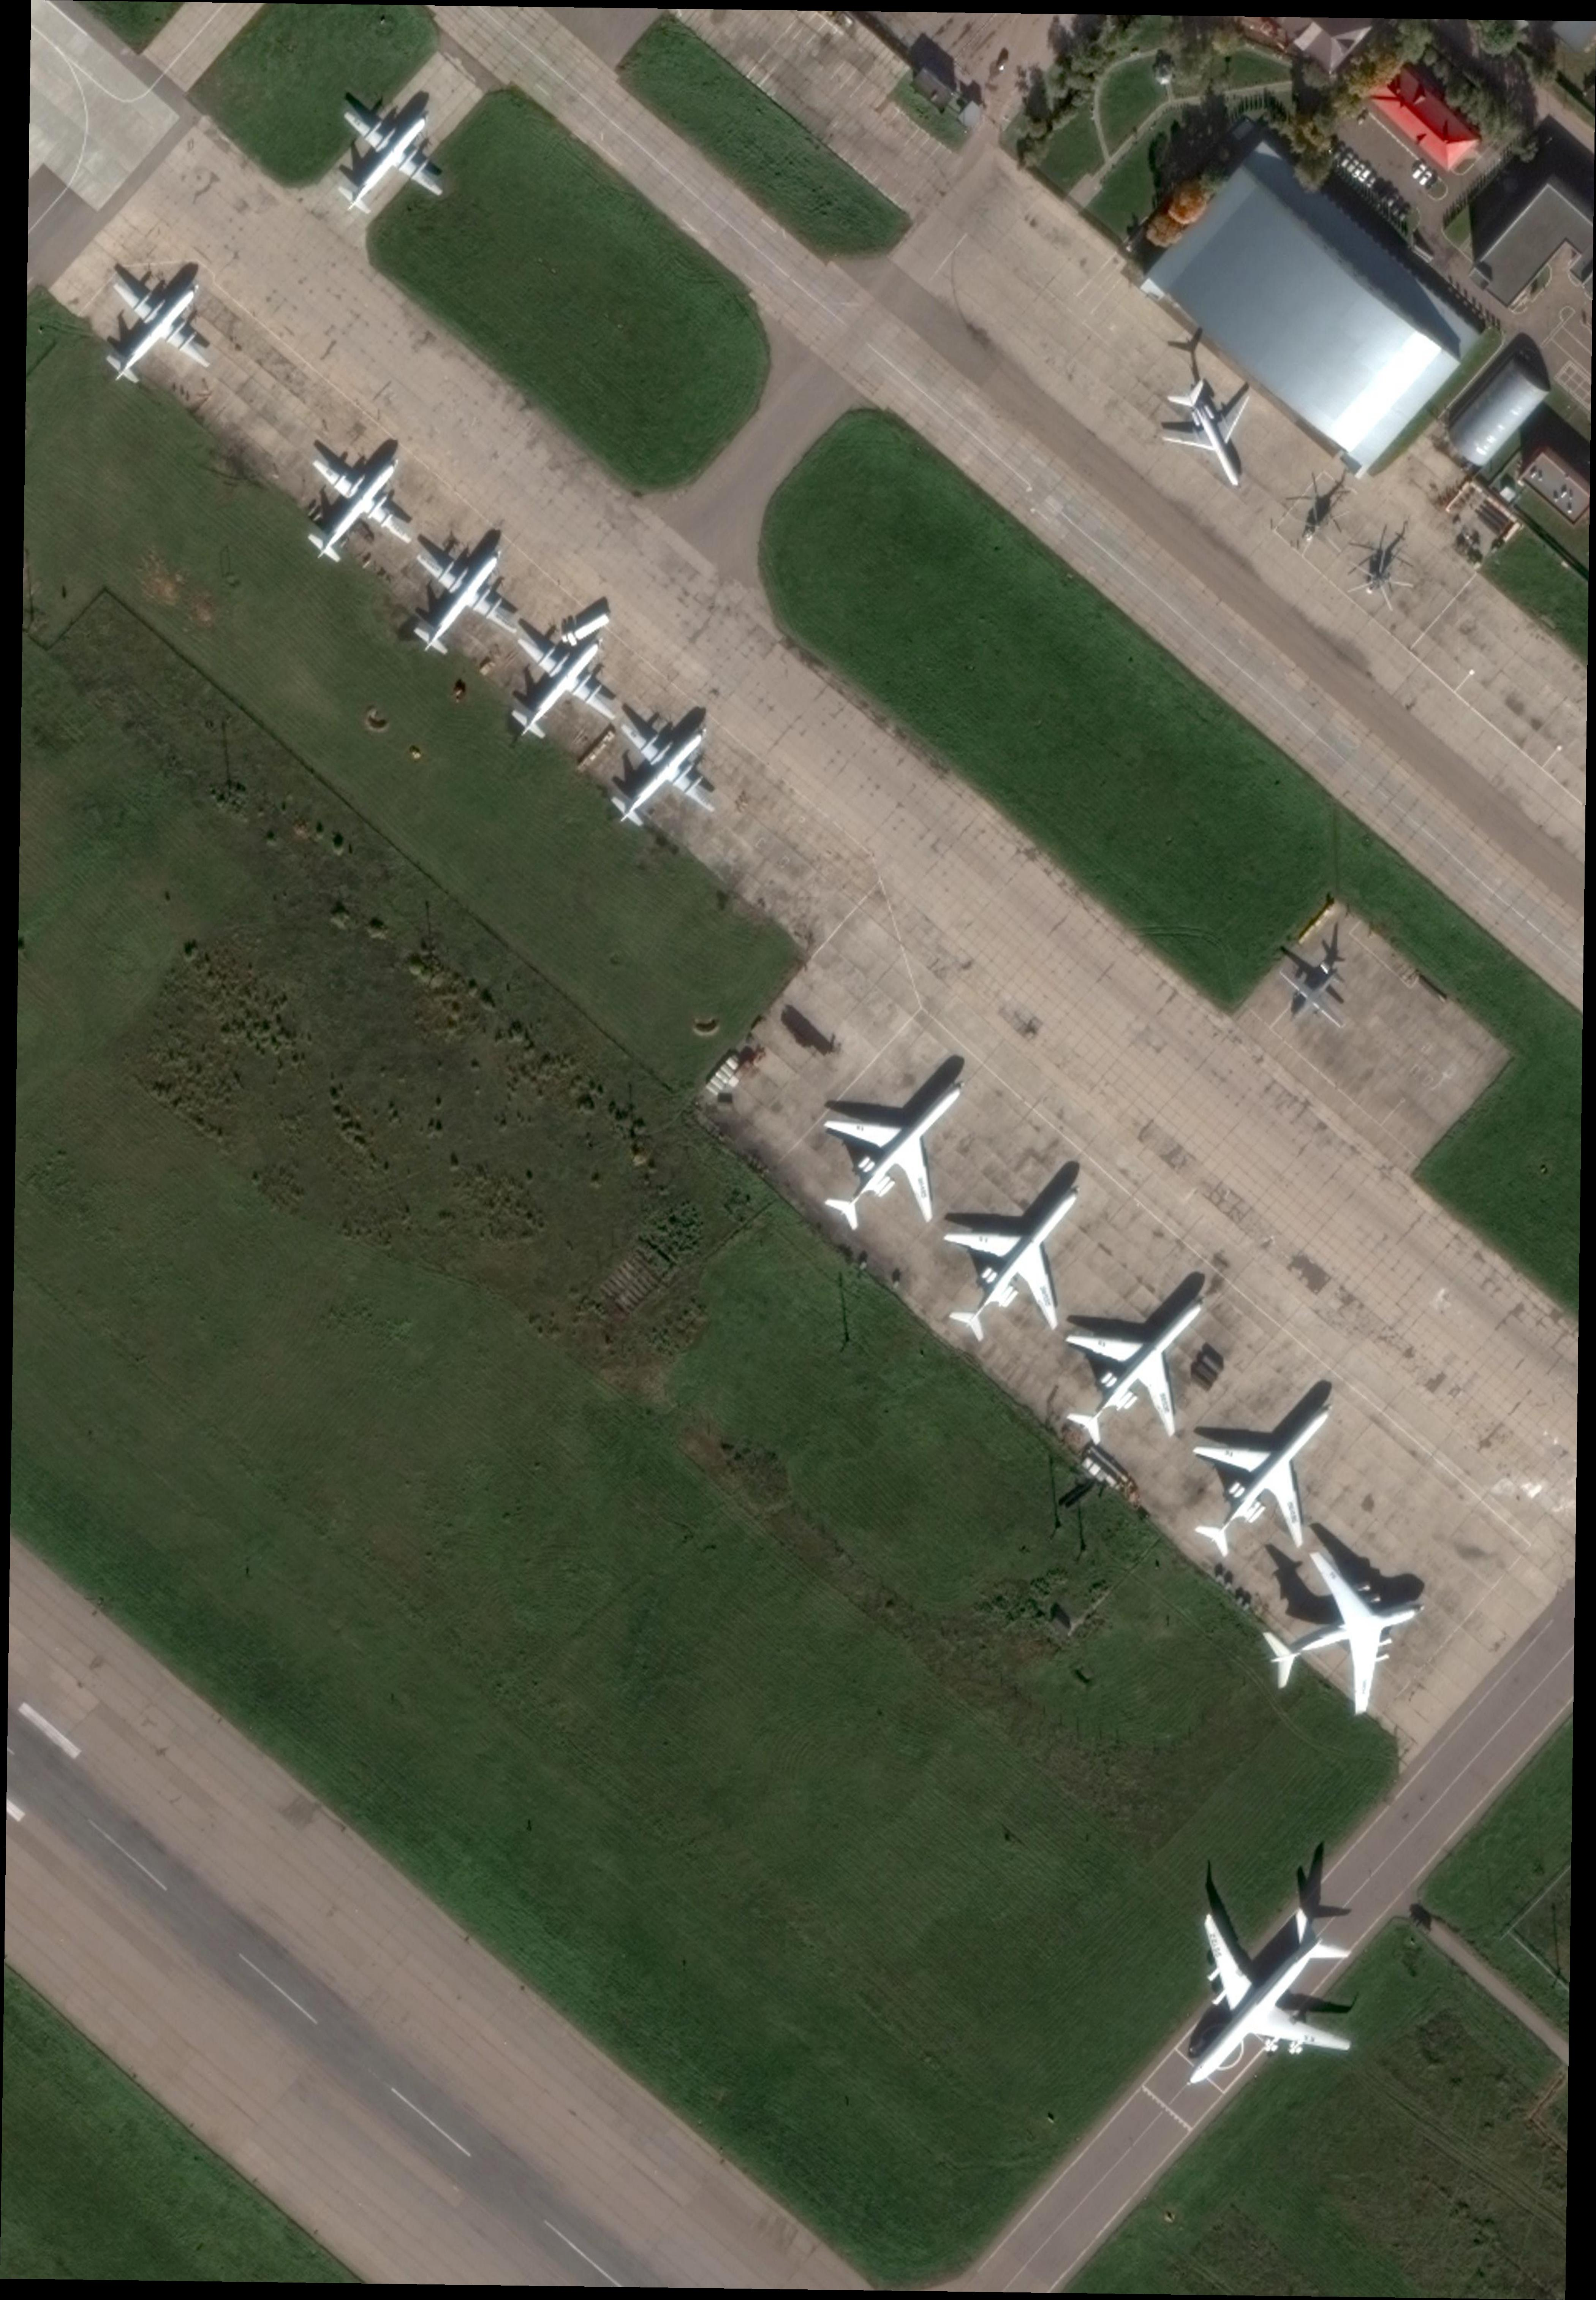plane: (1122, 1858, 1395, 2150), (1154, 1354, 1383, 1592), (911, 1138, 1131, 1375), (787, 1031, 1012, 1262), (1030, 1246, 1250, 1482), (1246, 1522, 1454, 1734), (301, 68, 474, 246), (577, 689, 752, 860), (274, 416, 442, 592), (379, 510, 545, 689), (479, 599, 645, 772), (73, 246, 241, 416), (1150, 371, 1281, 503), (1266, 947, 1369, 1047)
